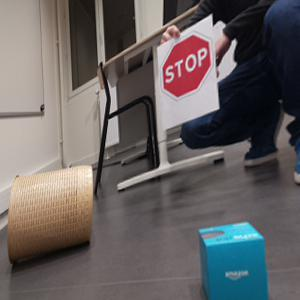stop: (162, 34, 211, 98)
